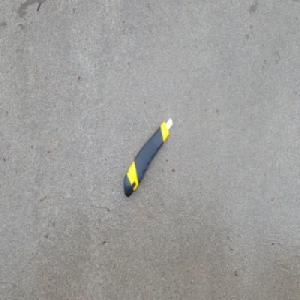Cutter: (122, 116, 174, 198)
